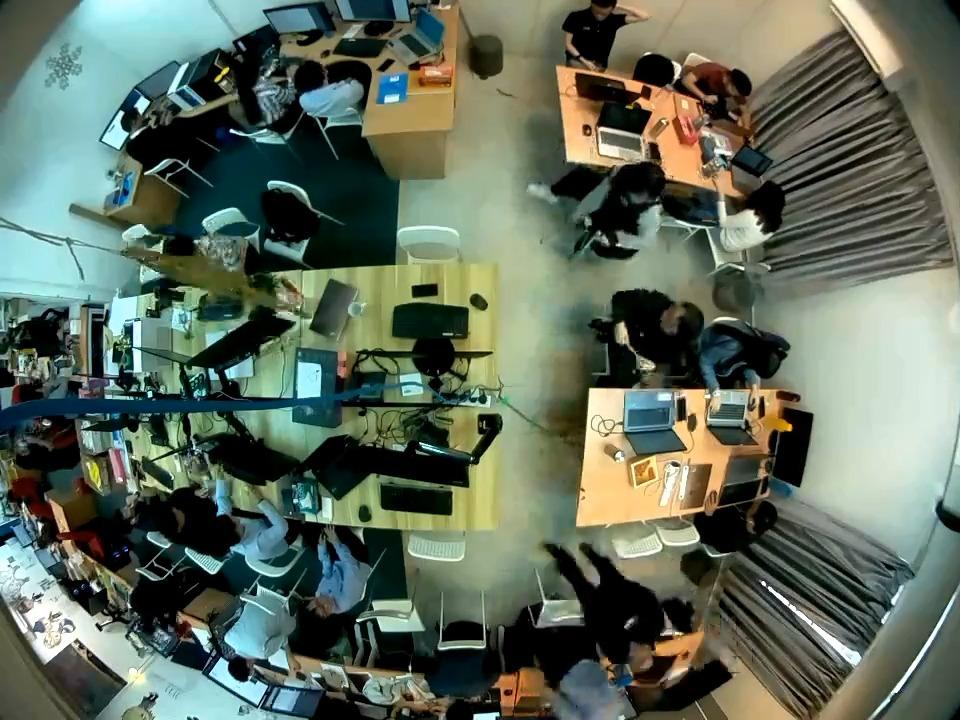name-tag: (620, 614, 636, 634)
